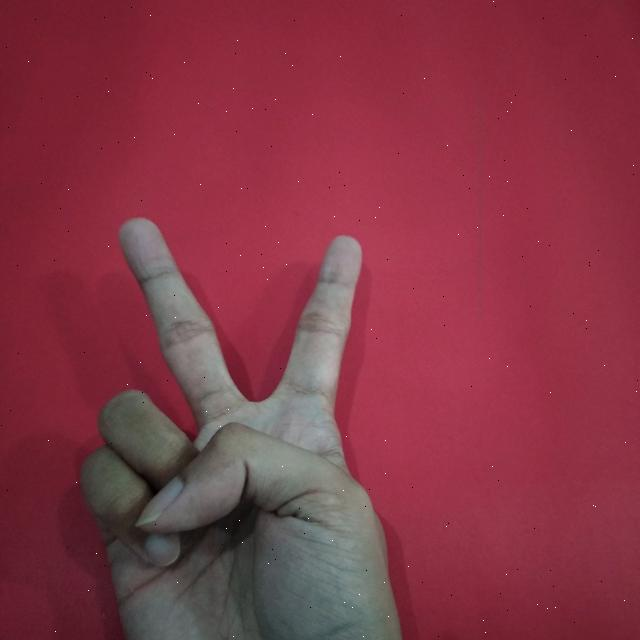V: (61, 210, 415, 640)
